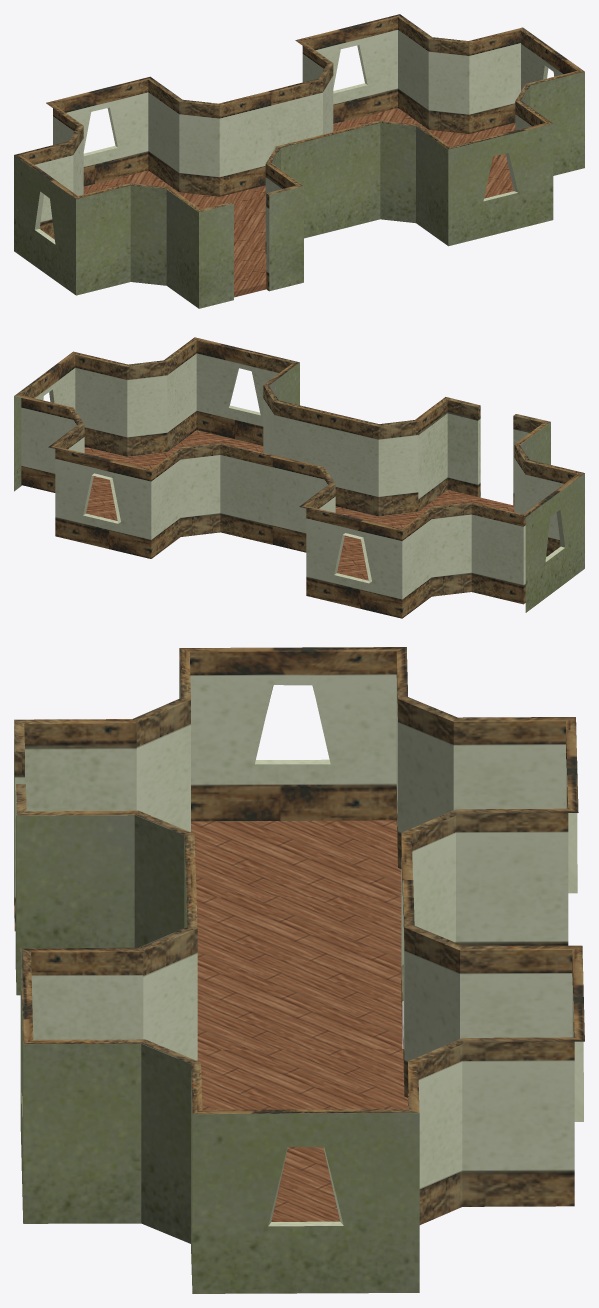
File: HouseInterior_2x1_doorToTheLeft.fbx
3 views of the same model, one above another, from view 1: azimuth 30°, elevation 25°; view 2: azimuth 150°, elevation 25°; view 3: azimuth 270°, elevation 25° (orthographic). The views are drawn at different scales.
Parts seen in each view (by area): view 1: pared_lv3_09; view 2: pared_lv3_09; view 3: pared_lv3_09.
Boxes of the visible parts, x1,y1,x2,y2 form: pared_lv3_09: (14, 14, 584, 308); pared_lv3_09: (14, 337, 584, 618); pared_lv3_09: (14, 647, 584, 1293).
Bounding box in the file's own units: 9116 × 1635 × 4708.
